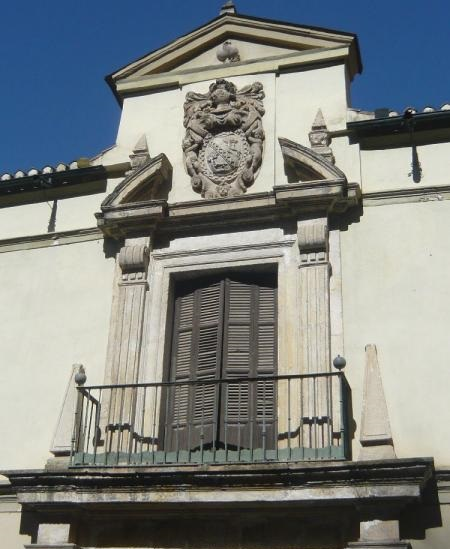fronton: (101, 10, 361, 88)
fronton-partido: (97, 135, 350, 218)
vano-adintelado: (143, 237, 297, 459)
